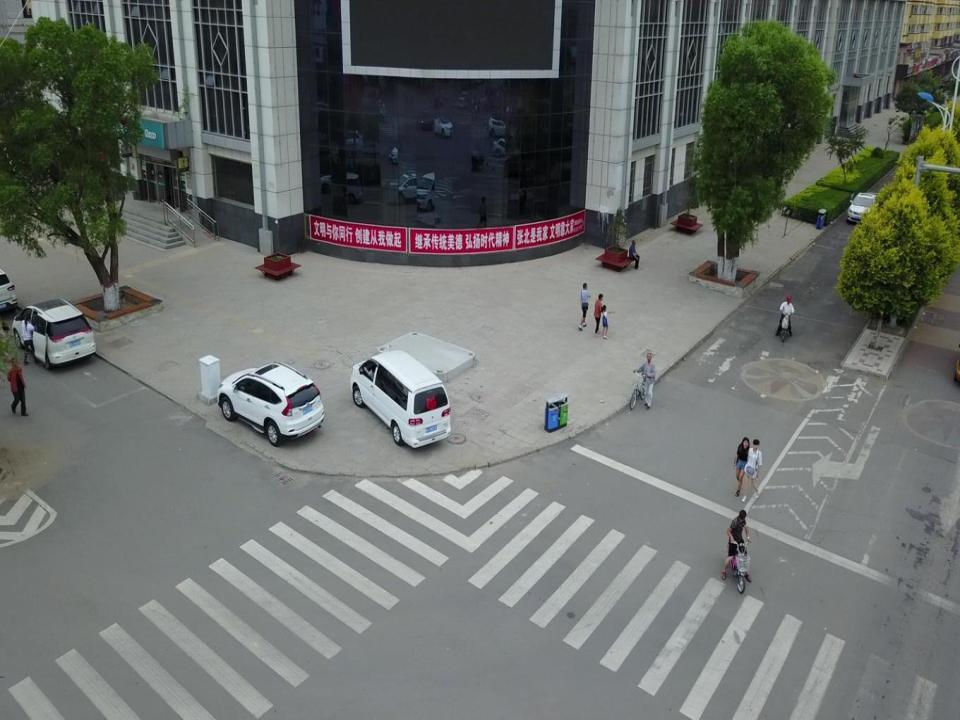car: (348, 349, 450, 448), (217, 361, 323, 446), (12, 294, 96, 370)
